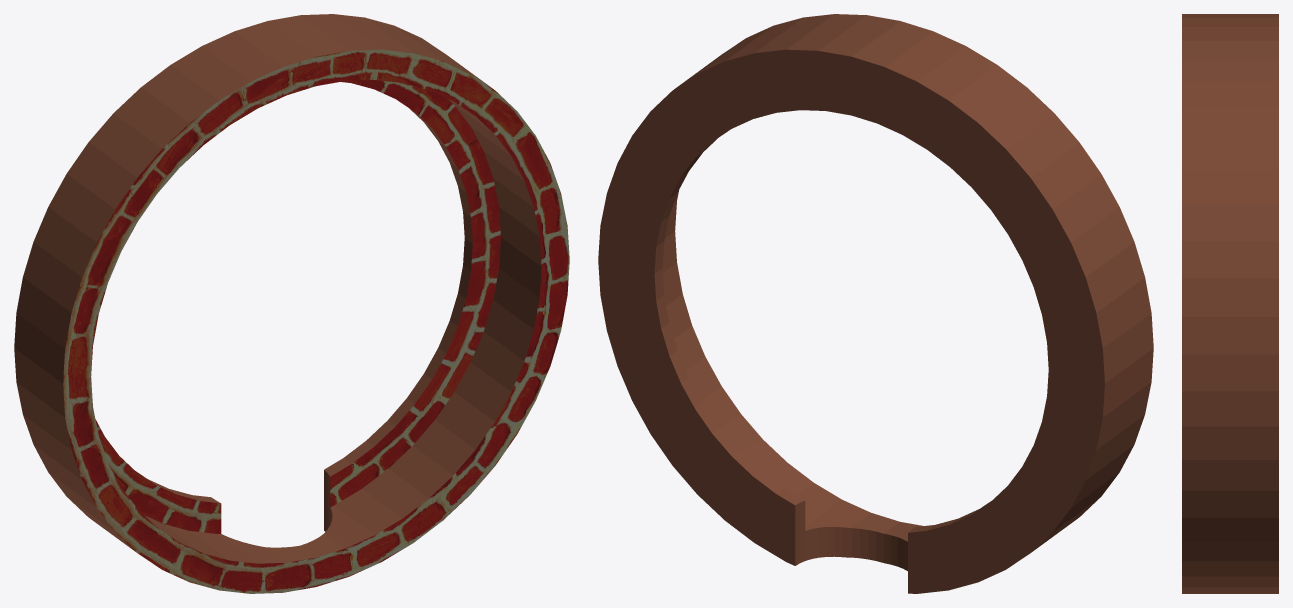
File: pool_068.obj
3 views of the same model, side by side, from view 1: azimuth 30°, elevation 25°; view 2: azimuth 150°, elevation 25°; view 3: azimuth 270°, elevation 25° (orthographic).
Size of the model in its own units: 18 by 18 by 3.
Materials: 1 (1 with a texture image).
